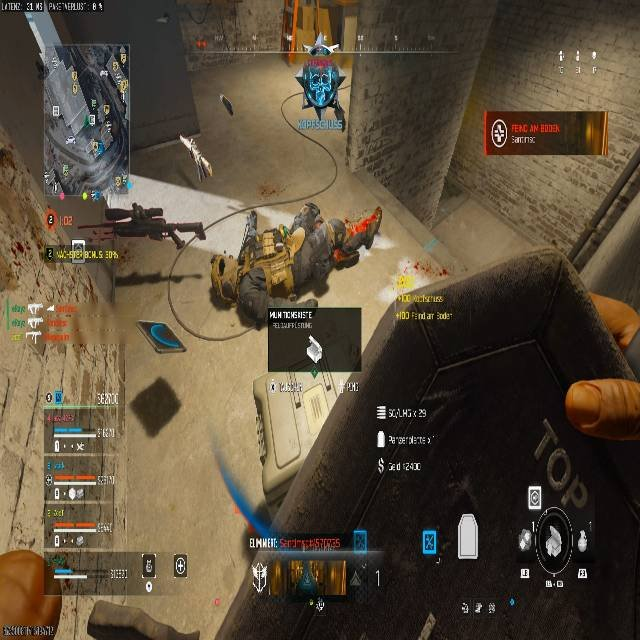head: (342, 205, 382, 248), (307, 44, 331, 57)
player: (295, 42, 347, 130)
